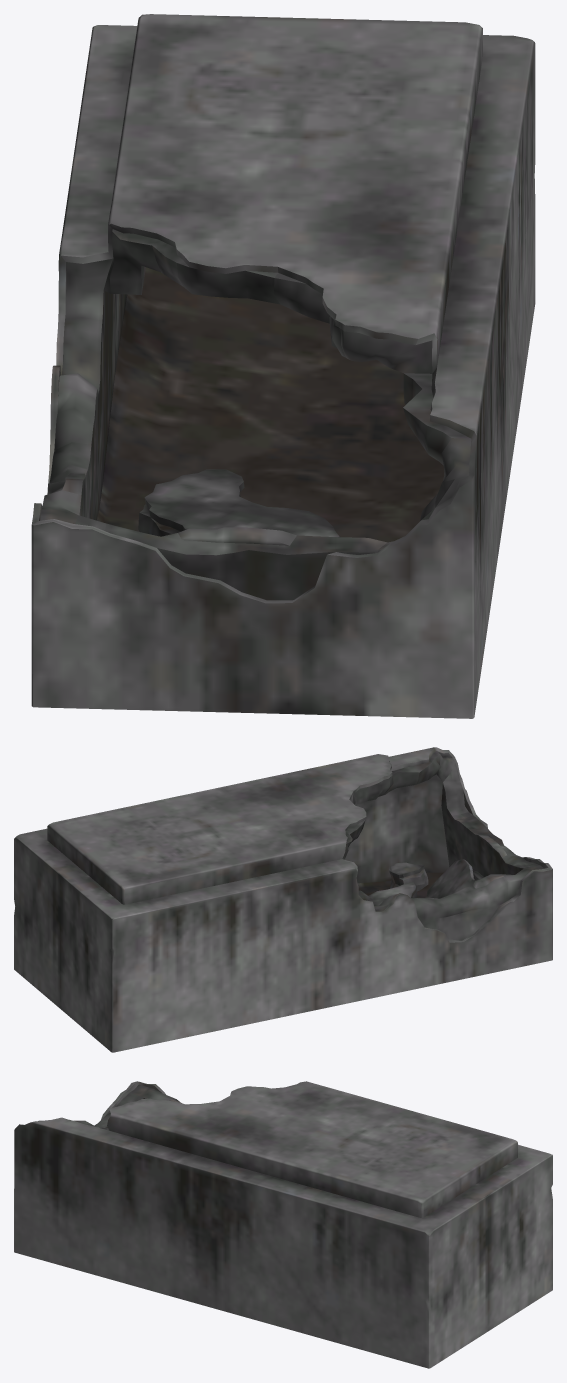
Rendered from Cemetery_OBJ_Tomb_02.fbx.
The picture shows the model from 3 angles, top to bottom: view 1: azimuth 30°, elevation 25°; view 2: azimuth 150°, elevation 25°; view 3: azimuth 270°, elevation 25°; orthographic projection. The views are drawn at different scales.
Visible parts, largest first — view 1: Cemetery_OBJ_Tomb_02; view 2: Cemetery_OBJ_Tomb_02; view 3: Cemetery_OBJ_Tomb_02.
Boxes of the visible parts, x1,y1,x2,y2 form: Cemetery_OBJ_Tomb_02: (31, 14, 535, 718); Cemetery_OBJ_Tomb_02: (14, 747, 552, 1052); Cemetery_OBJ_Tomb_02: (14, 1081, 552, 1368).
Bounding box in the file's own units: 201 × 73.38 × 235.
1 material, 1 textured.
